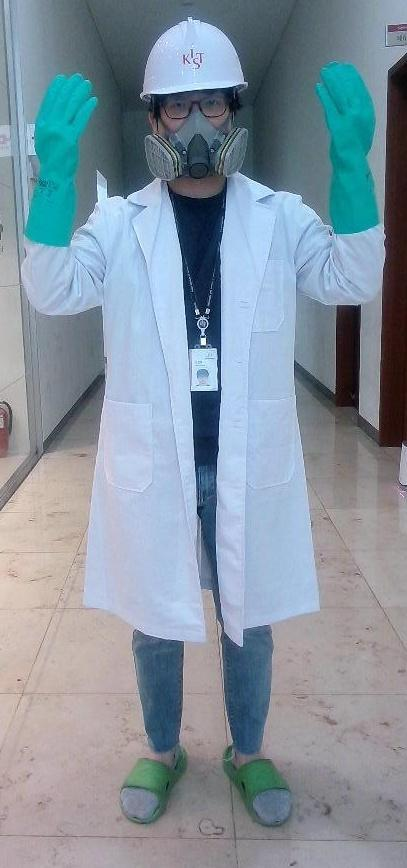lab_coat: (97, 205, 319, 624)
